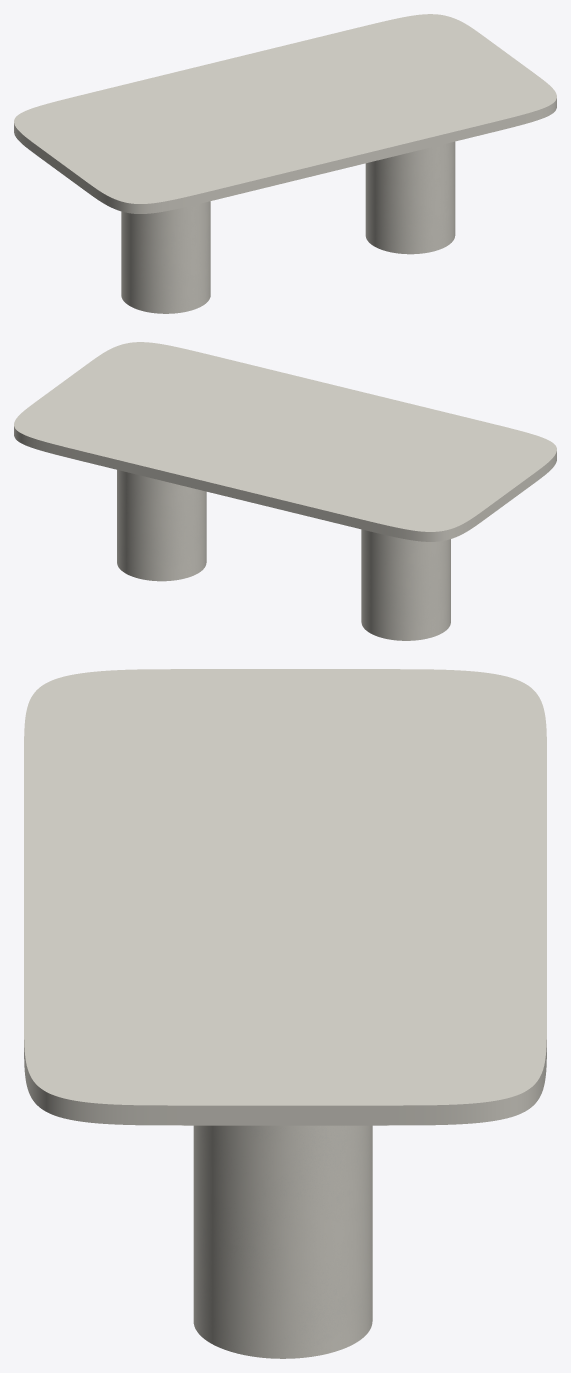
File: pale_softrecta_standard_stream.glb
3 renders of one model, top to bottom at view 1: azimuth 30°, elevation 25°; view 2: azimuth 150°, elevation 25°; view 3: azimuth 270°, elevation 25°, orthographic. The views are drawn at different scales.
Visible parts, largest first — view 1: standard_softrecta, stream; view 2: standard_softrecta, stream; view 3: standard_softrecta, stream.
Part boxes in pixels (x1,y1,x2,y2): standard_softrecta: (14, 14, 556, 213); stream: (121, 141, 455, 313); standard_softrecta: (14, 342, 556, 541); stream: (117, 470, 450, 640); standard_softrecta: (24, 669, 546, 1125); stream: (193, 1125, 372, 1358).
Size of the model in its own units: 7.5 by 2.5 by 3.8.
1 material, 1 textured.
